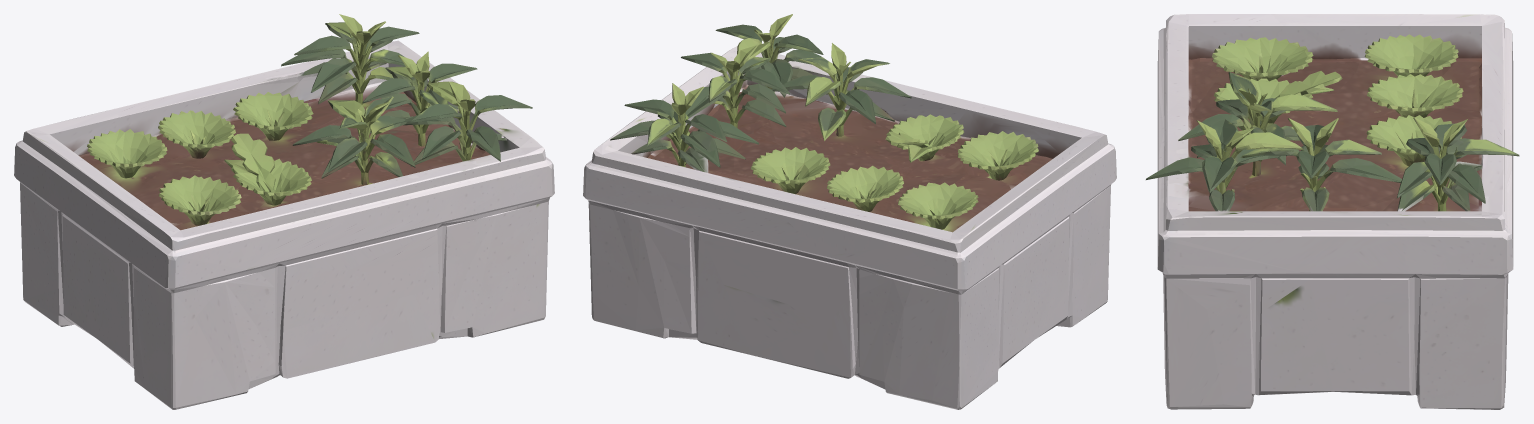
Rendered from styrofoam_planter.glb.
3 renders of one model, left to right at view 1: azimuth 30°, elevation 25°; view 2: azimuth 150°, elevation 25°; view 3: azimuth 270°, elevation 25°, orthographic. The views are drawn at different scales.
Parts seen in each view (by area): view 1: styrofoam_planter; view 2: styrofoam_planter; view 3: styrofoam_planter.
Boxes of the visible parts, x1,y1,x2,y2 form: styrofoam_planter: (14, 14, 554, 409); styrofoam_planter: (583, 14, 1116, 409); styrofoam_planter: (1146, 14, 1519, 409).
Size of the model in its own units: 0.6 by 0.3364 by 0.4481.
Materials: 1 (1 with a texture image).
